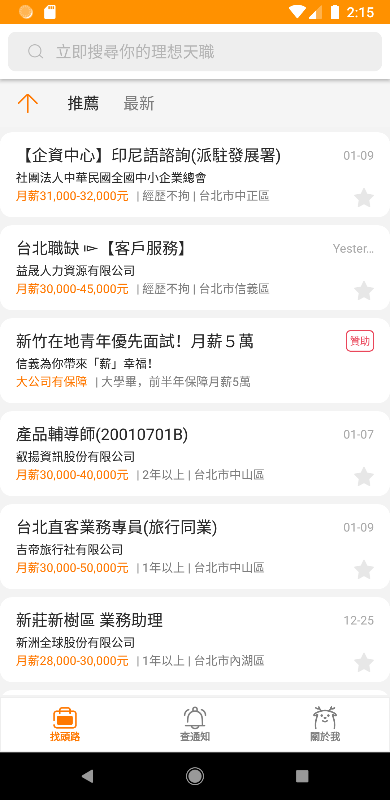button: (6, 26, 390, 77), (41, 701, 96, 748), (302, 704, 351, 748), (173, 703, 219, 745), (339, 323, 383, 362), (11, 89, 47, 123), (344, 180, 380, 213), (347, 553, 380, 586), (349, 276, 383, 307), (346, 460, 380, 491), (347, 649, 383, 678)
